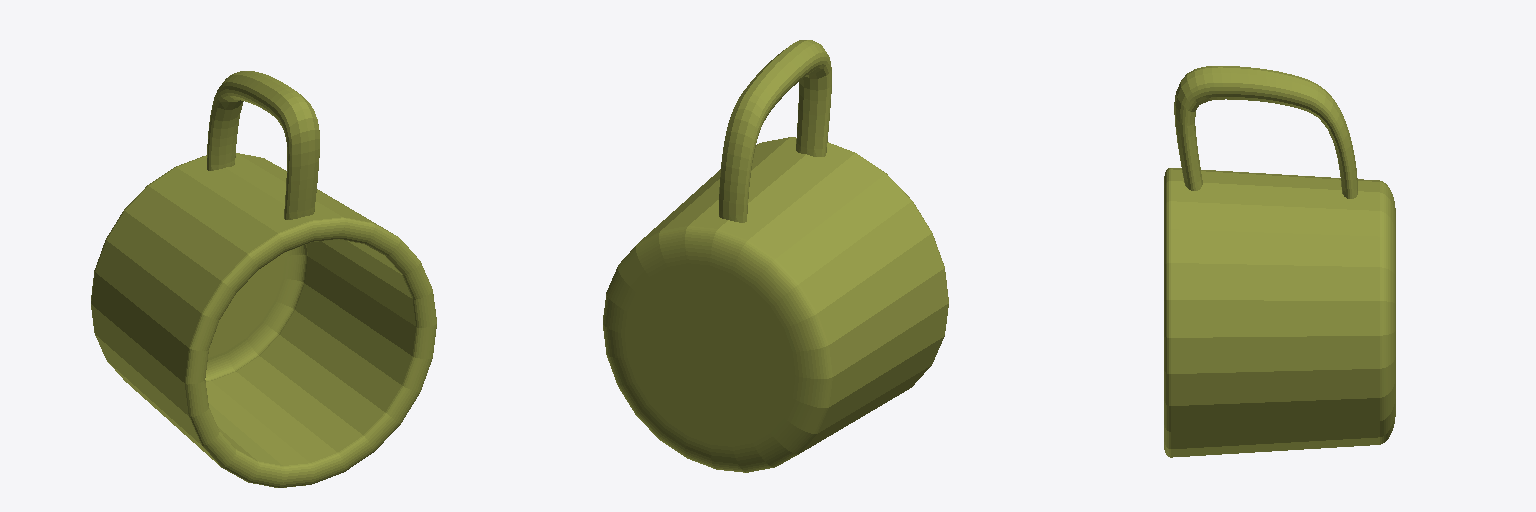
3 renders of one model, left to right at view 1: azimuth 30°, elevation 25°; view 2: azimuth 150°, elevation 25°; view 3: azimuth 270°, elevation 25°, orthographic.
Parts seen in each view (by area): view 1: instance_cup_5; view 2: instance_cup_5; view 3: instance_cup_5.
Part boxes in pixels (x1,y1,x2,y2): instance_cup_5: (91, 71, 436, 487); instance_cup_5: (603, 40, 948, 472); instance_cup_5: (1164, 66, 1395, 457).
Size of the model in its own units: 0.0904 by 0.1292 by 0.0719.